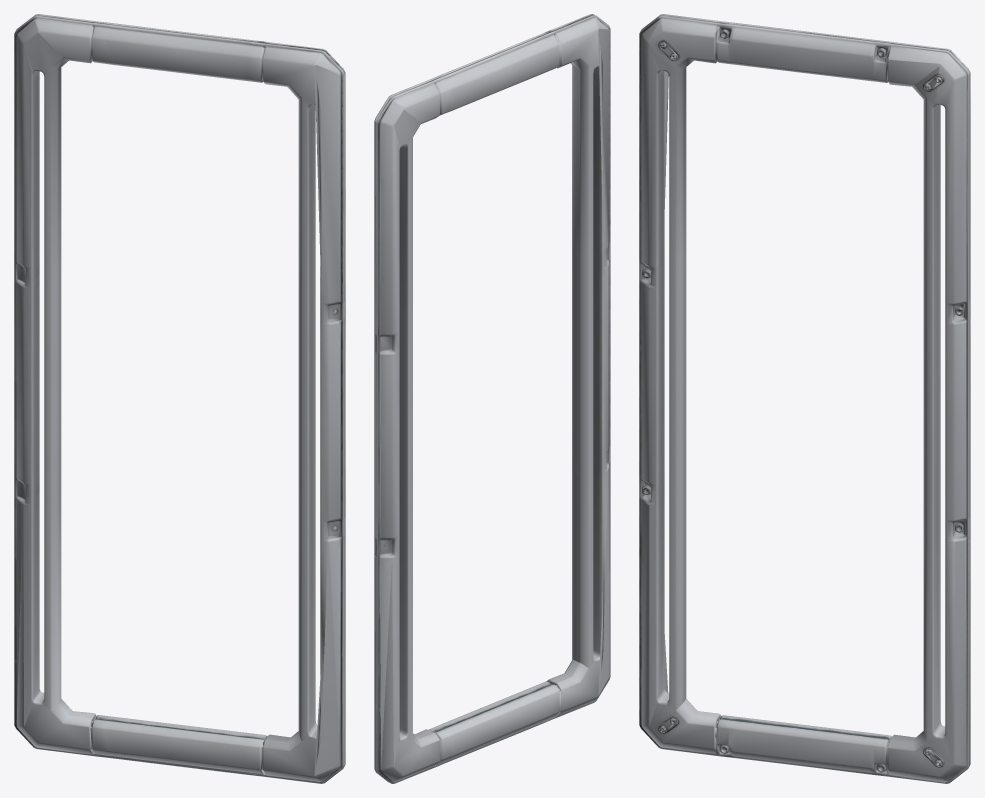
The model's file is tripo_convert_3ca532ab-770e-4126-9788-8258cbf5b61c.fbx.
The picture shows the model from 3 angles, left to right: view 1: azimuth 90°, elevation 25°; view 2: azimuth 150°, elevation 25°; view 3: azimuth 270°, elevation 25°; orthographic projection. The views are drawn at different scales.
Parts seen in each view (by area): view 1: tripo_part_1, tripo_part_4, tripo_part_2, tripo_part_0, tripo_part_6, tripo_part_9; view 2: tripo_part_1, tripo_part_0, tripo_part_2, tripo_part_4, tripo_part_6, tripo_part_9; view 3: tripo_part_1, tripo_part_2, tripo_part_4, tripo_part_0, tripo_part_6, tripo_part_9.
Part boxes in pixels (x1,y1,x2,y2): tripo_part_1: (14,14,340,741); tripo_part_4: (311,50,345,775); tripo_part_2: (14,33,95,756); tripo_part_0: (14,20,91,725); tripo_part_6: (90,715,266,776); tripo_part_9: (260,561,344,783); tripo_part_1: (374,14,607,668); tripo_part_0: (374,101,439,768); tripo_part_2: (374,110,441,783); tripo_part_4: (593,15,610,695); tripo_part_6: (429,681,560,766); tripo_part_9: (546,606,610,718); tripo_part_1: (646,14,970,710); tripo_part_2: (886,66,970,783); tripo_part_4: (639,15,669,725); tripo_part_0: (887,60,970,763); tripo_part_6: (716,715,891,775); tripo_part_9: (639,501,721,755).
Bounding box in the file's own units: 0.1401 × 0.9995 × 0.4097.
1 material, 1 textured.
